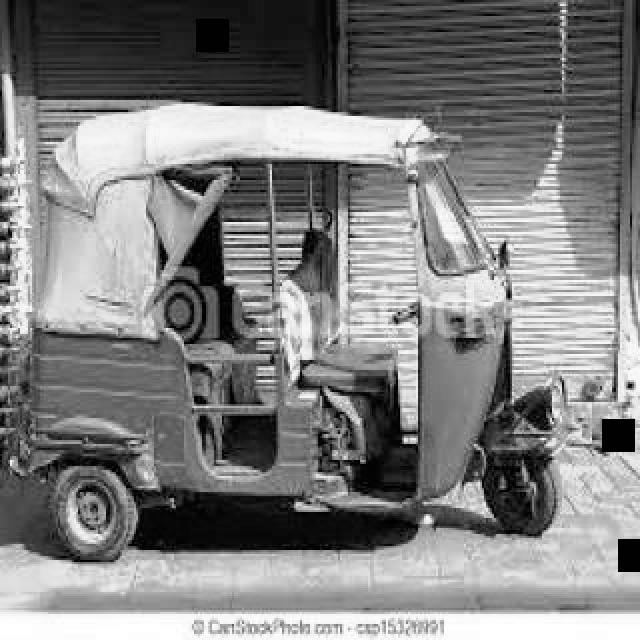Auto-Rickshaw: (20, 94, 578, 576)
